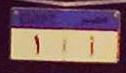1: (32, 33, 42, 56)
alif: (87, 35, 95, 57)
